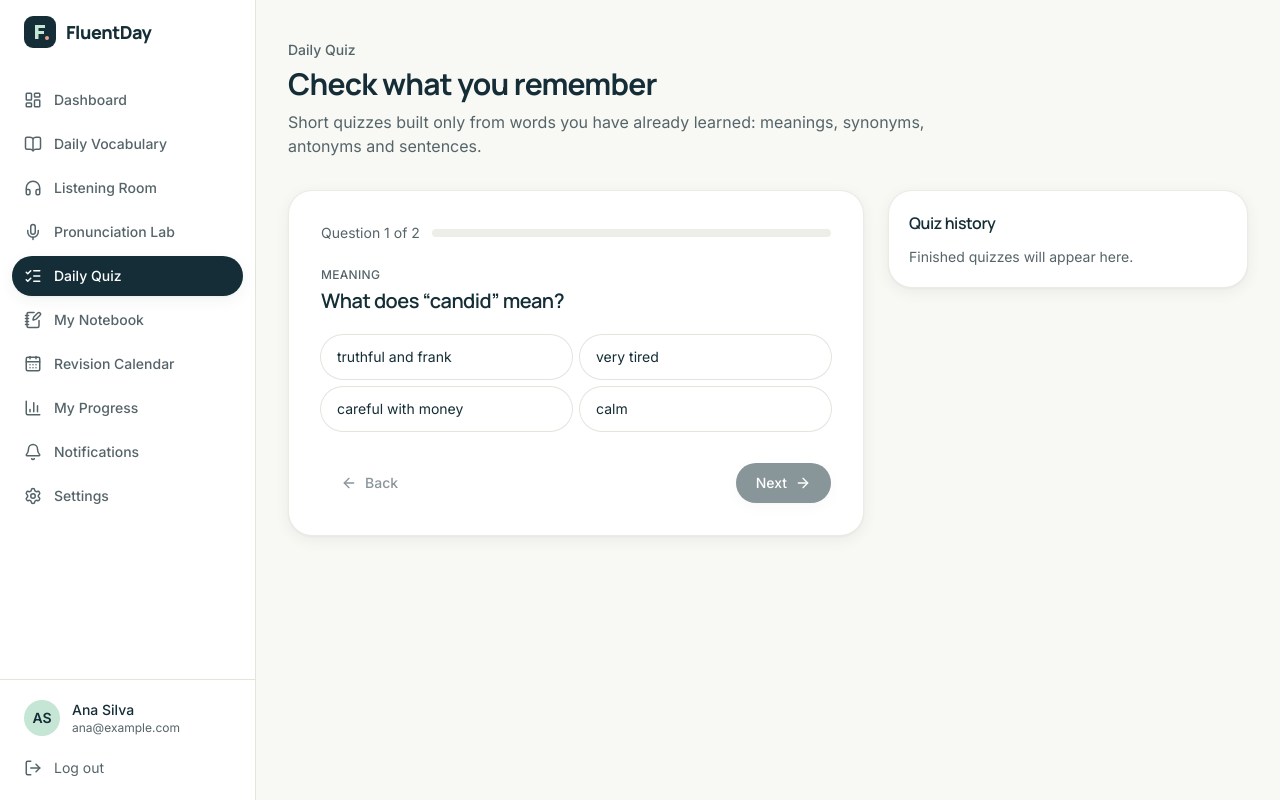
Test: quiz page › takes the quiz one question at a time and shows the results
Expected: the heading "What does “candid” mean?" is shown, [321,287,564,314]
Expected: the button "Next" is disabled, [736,463,831,503]
Step 1. Click the radio button labelled "truthful and frank" → {"x": 446, "y": 357}, box [321,335,572,379]
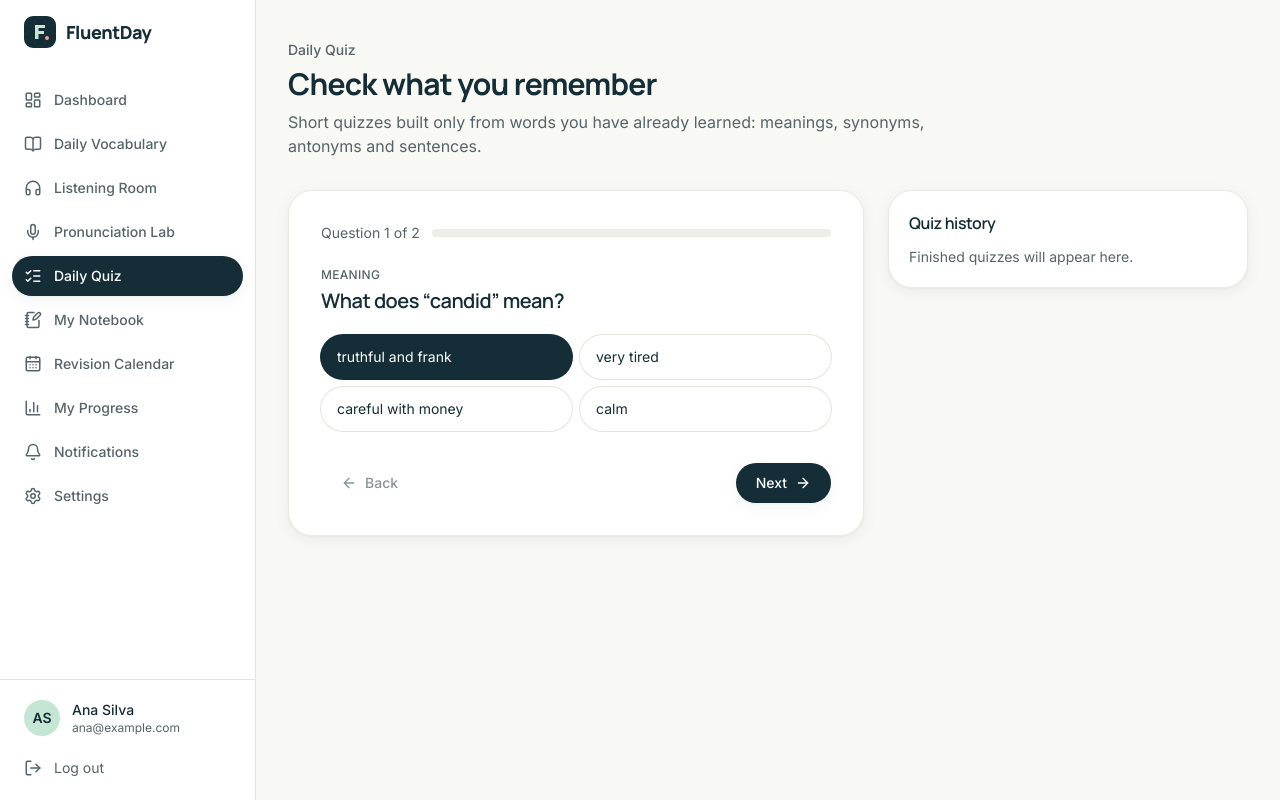
Step 2. Click the button "Next" → {"x": 783, "y": 483}, box [736,463,831,503]
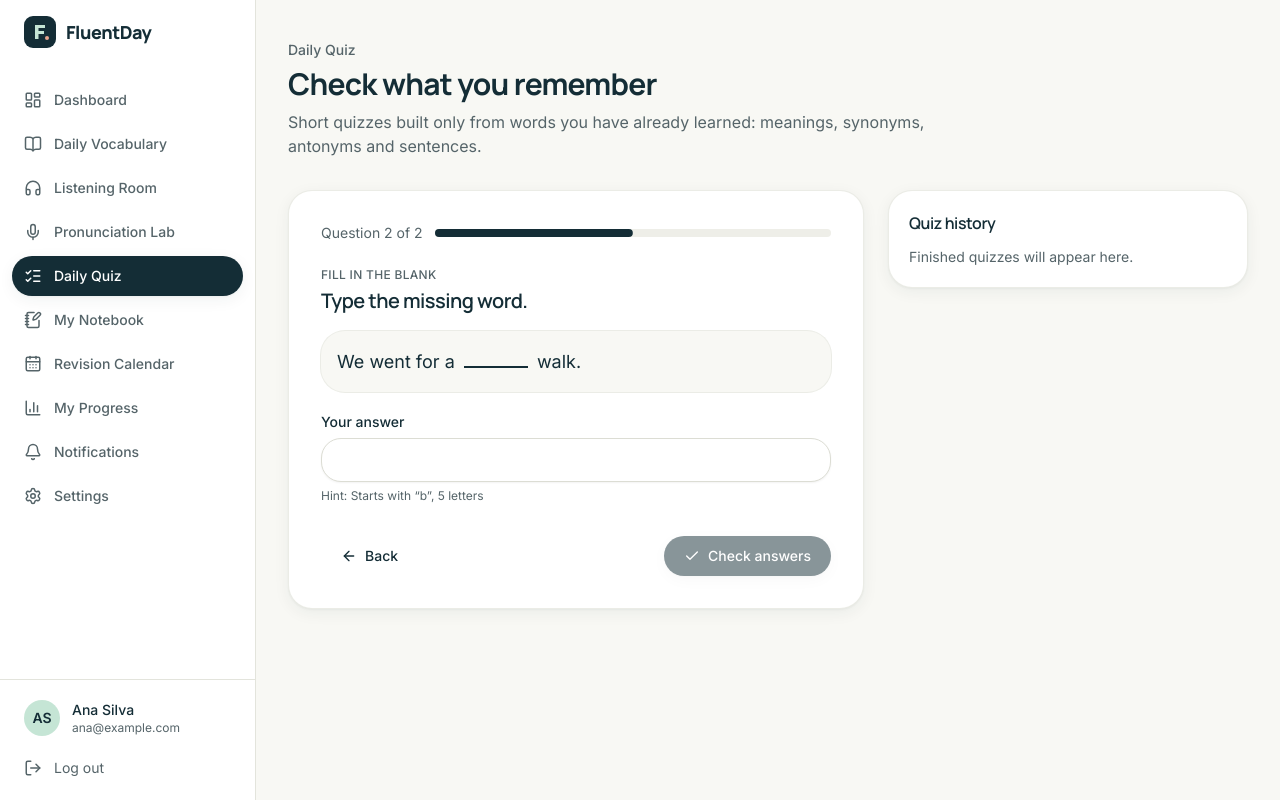
Step 3. Type "quick" into the field labelled "Your answer" → {"x": 576, "y": 460}, box [321,438,831,482]
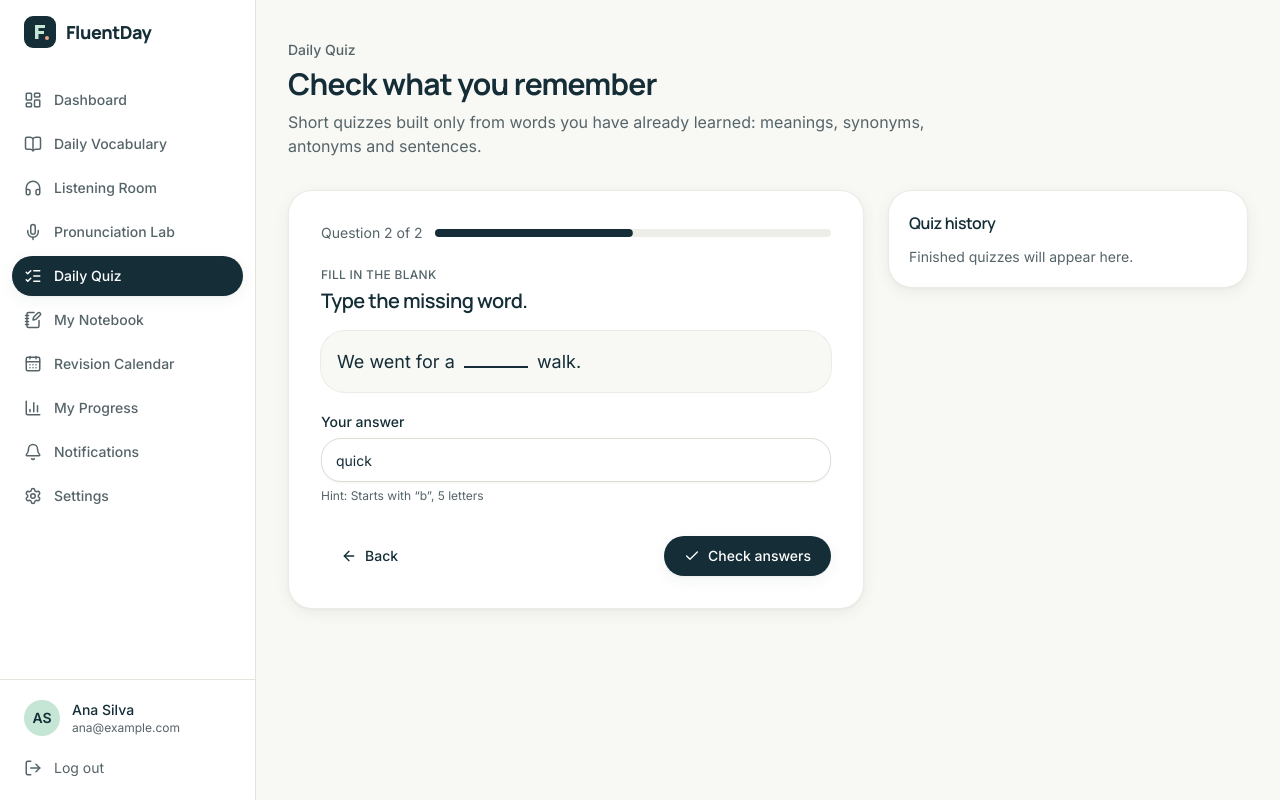
Step 4. Click the button "Check answers" → {"x": 748, "y": 556}, box [664,536,831,576]
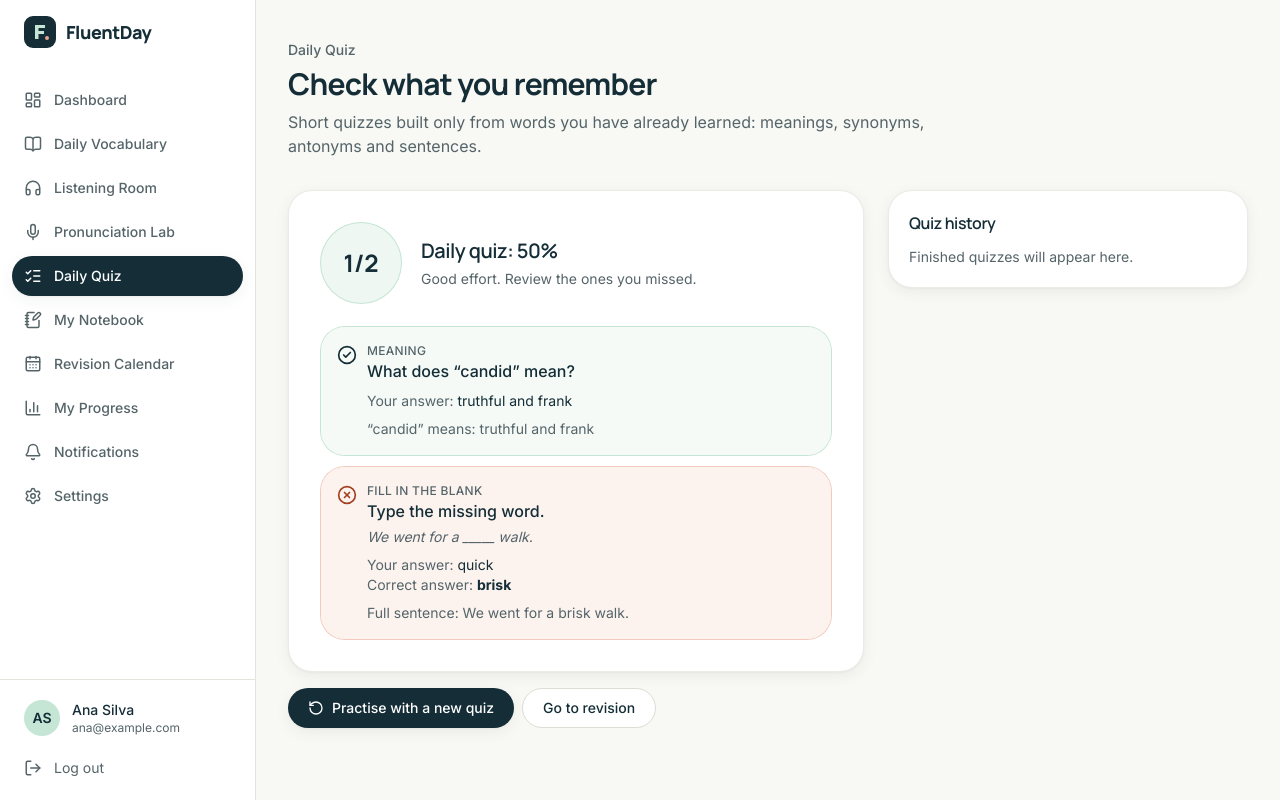
Now the heading "Daily quiz: 50%" is shown, box [421,237,558,264]
Now the text "brisk" is shown, box [477,576,511,593]
Now the text "Full sentence: We went for a brisk walk." is shown, box [367,603,629,623]
